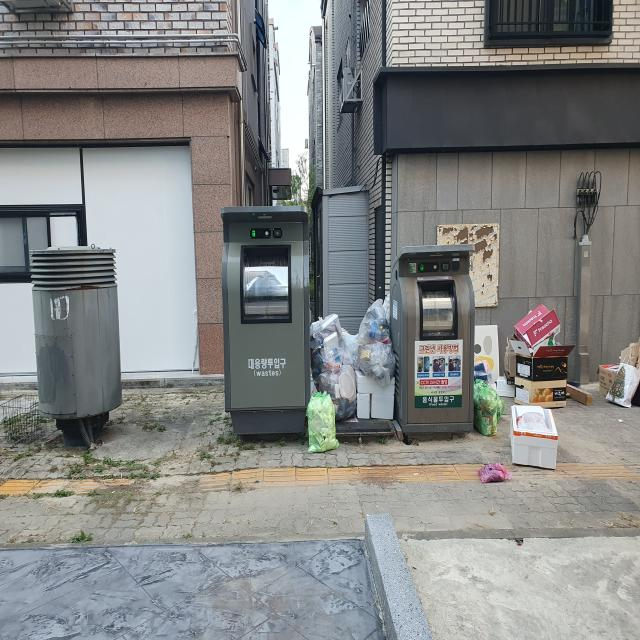CleanNet: (220, 205, 310, 416), (391, 244, 475, 432)
General Waste: (472, 304, 576, 466), (306, 297, 394, 456), (598, 342, 640, 408)
Large Waste Items: (475, 325, 500, 384), (340, 68, 358, 108)
